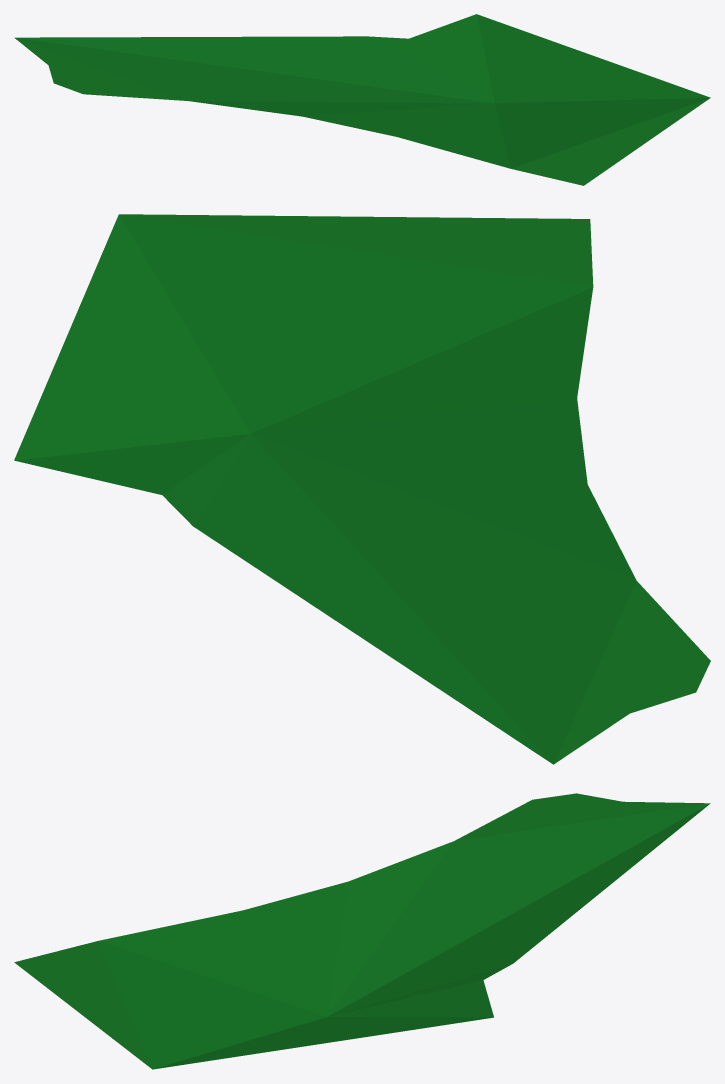
3 views of the same model, one above another, from view 1: azimuth 30°, elevation 25°; view 2: azimuth 150°, elevation 25°; view 3: azimuth 270°, elevation 25° (orthographic). The views are drawn at different scales.
Parts seen in each view (by area): view 1: Mapa Base.004; view 2: Mapa Base.004; view 3: Mapa Base.004.
Boxes of the visible parts, box(x1,y1,x2,y2) form: Mapa Base.004: box(14, 14, 710, 185); Mapa Base.004: box(14, 214, 710, 764); Mapa Base.004: box(14, 793, 710, 1069).
Size of the model in its own units: 9443 by 10071 by 472.
